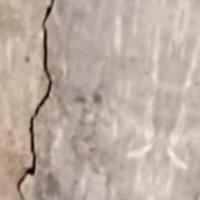crack: (13, 1, 61, 199)
